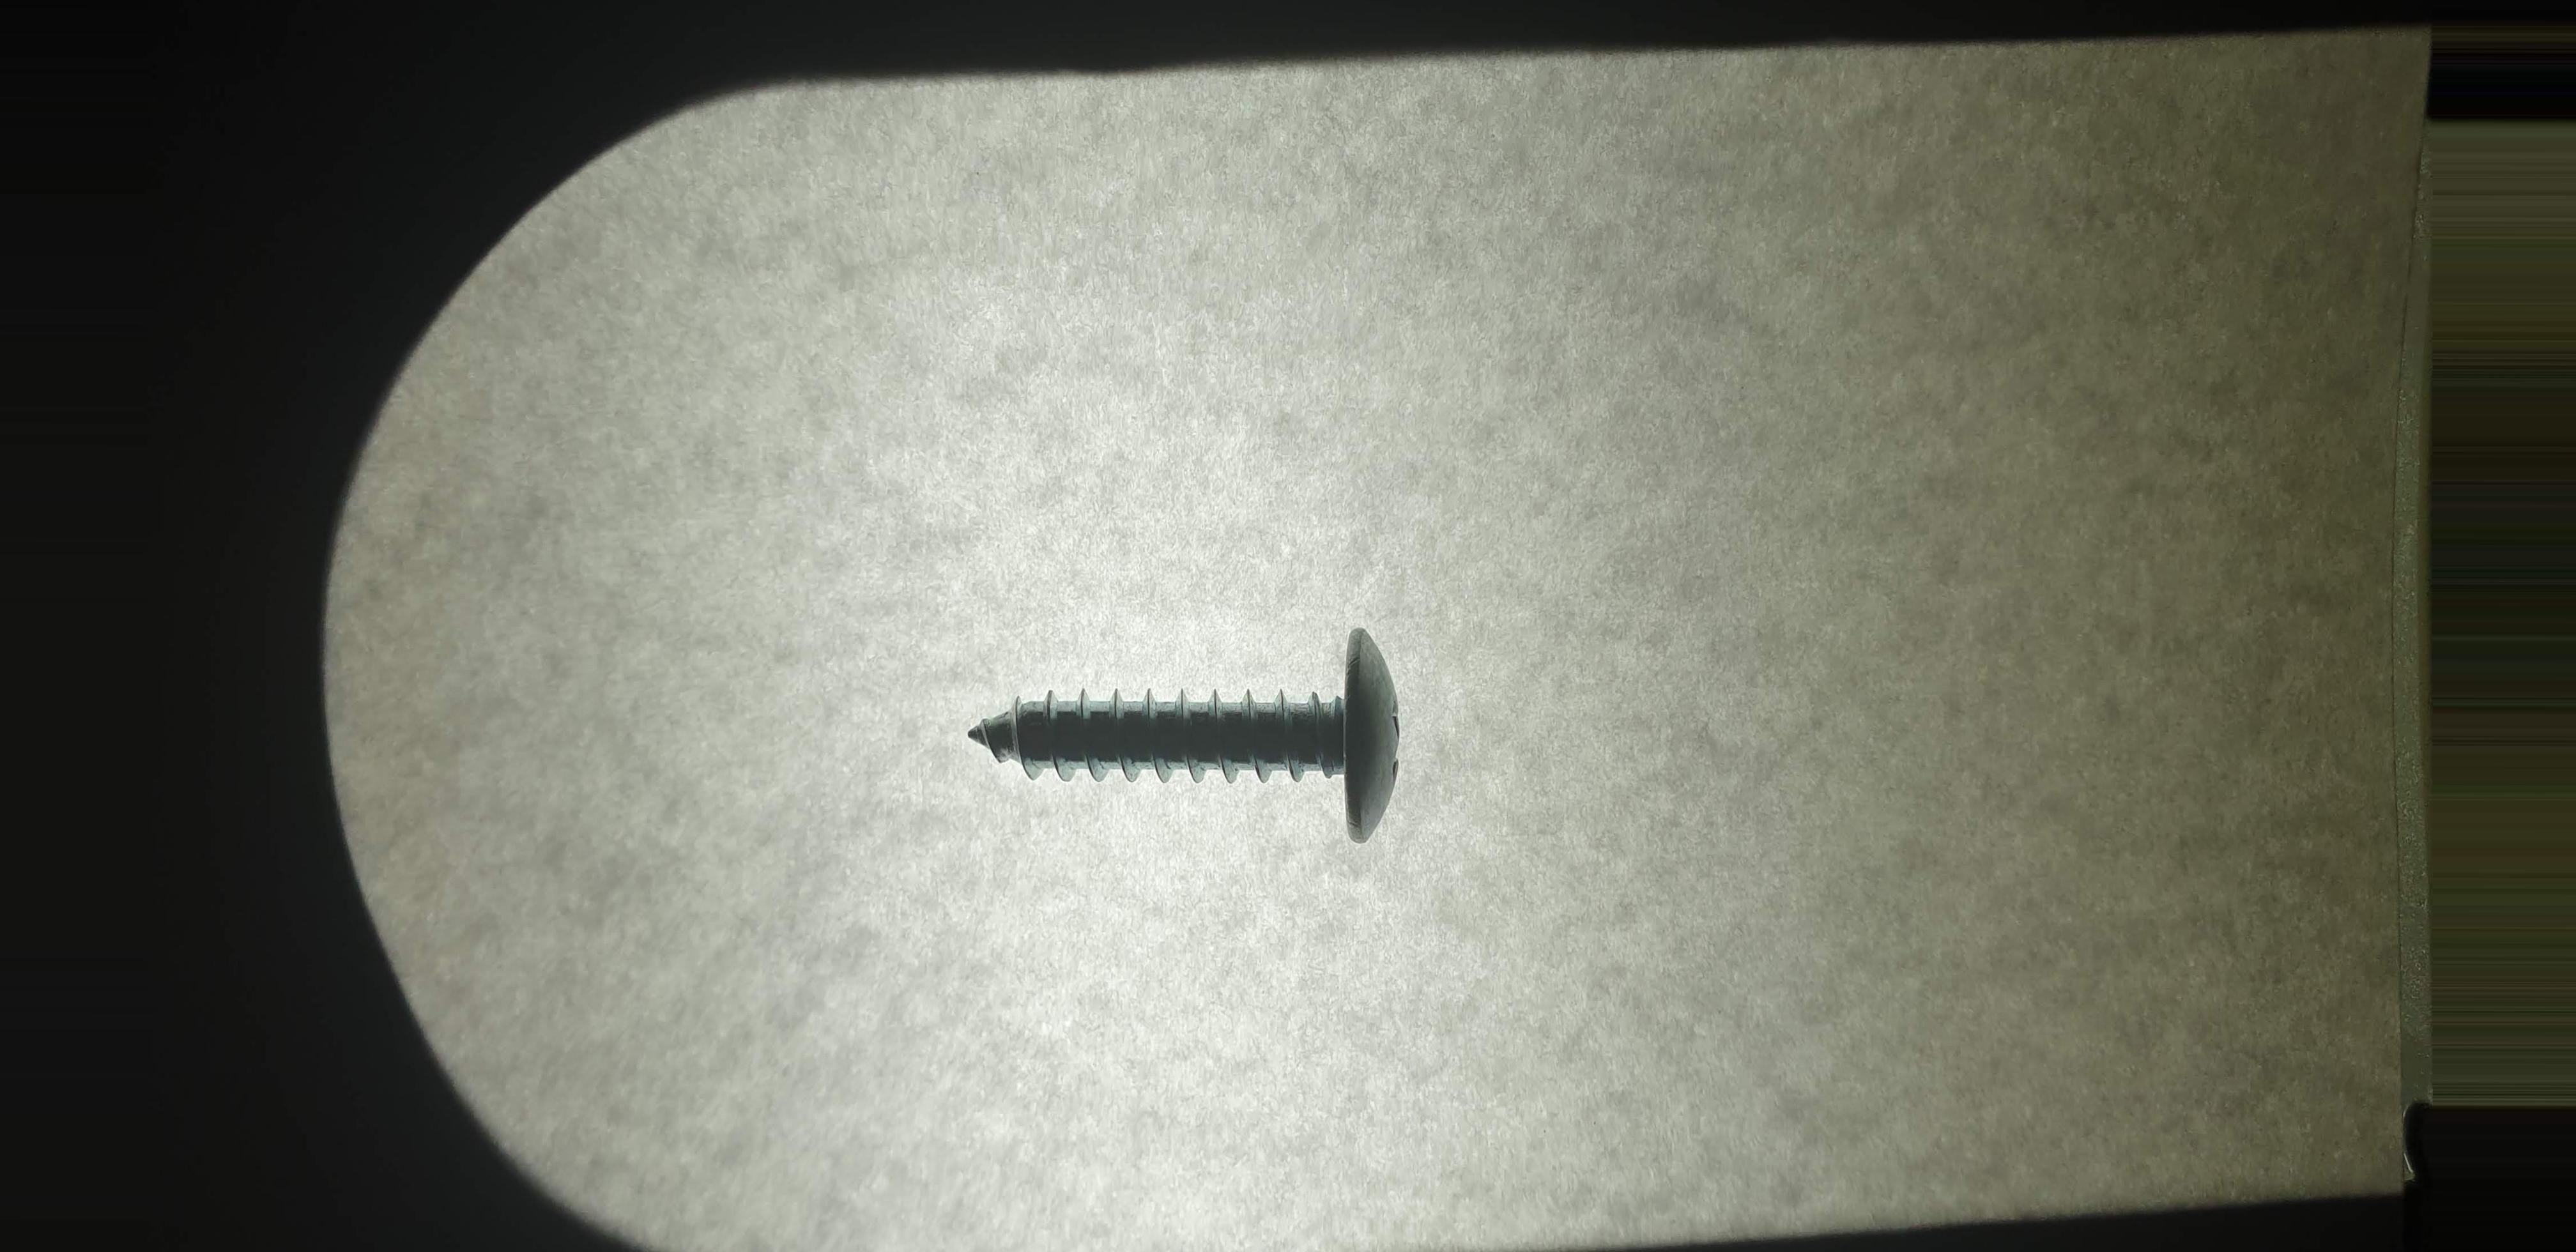S002: (897, 590, 1497, 877)
